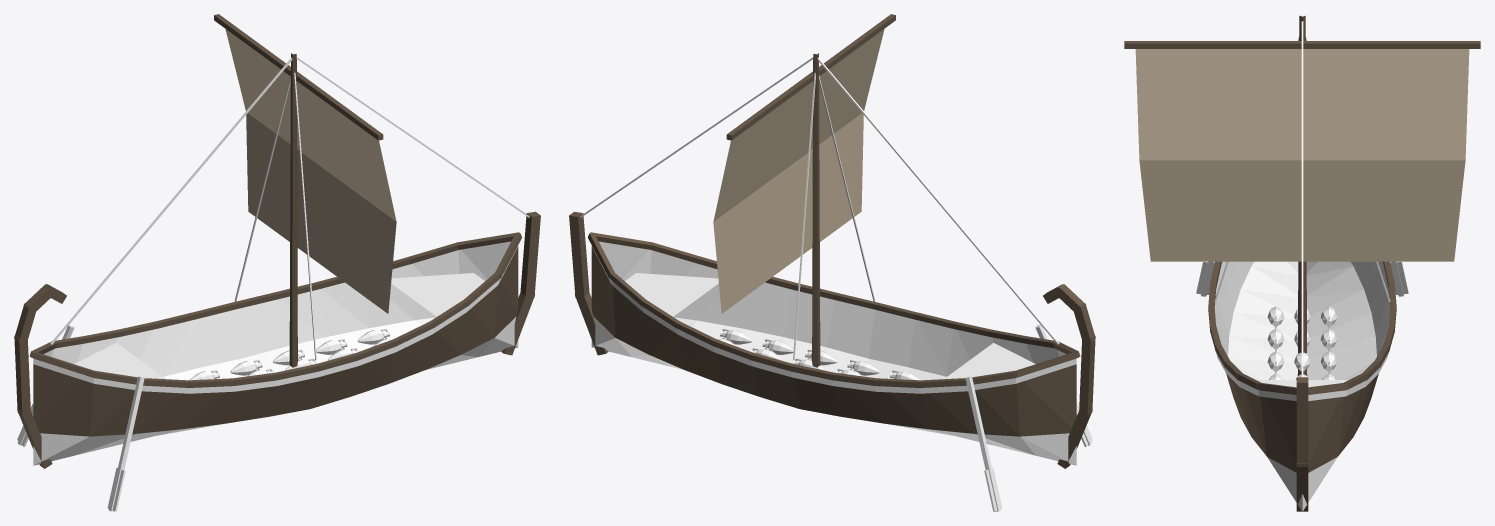
Rendered from ship.glb.
3 renders of one model, left to right at view 1: azimuth 30°, elevation 25°; view 2: azimuth 150°, elevation 25°; view 3: azimuth 270°, elevation 25°, orthographic. The views are drawn at different scales.
Parts seen in each view (by area): view 1: ship_mesh; view 2: ship_mesh; view 3: ship_mesh.
Part boxes in pixels (x1,y1,x2,y2): ship_mesh: [14, 14, 540, 511]; ship_mesh: [569, 14, 1095, 511]; ship_mesh: [1124, 15, 1480, 511].
Bounding box in the file's own units: 17.21 × 11.67 × 9.4.
